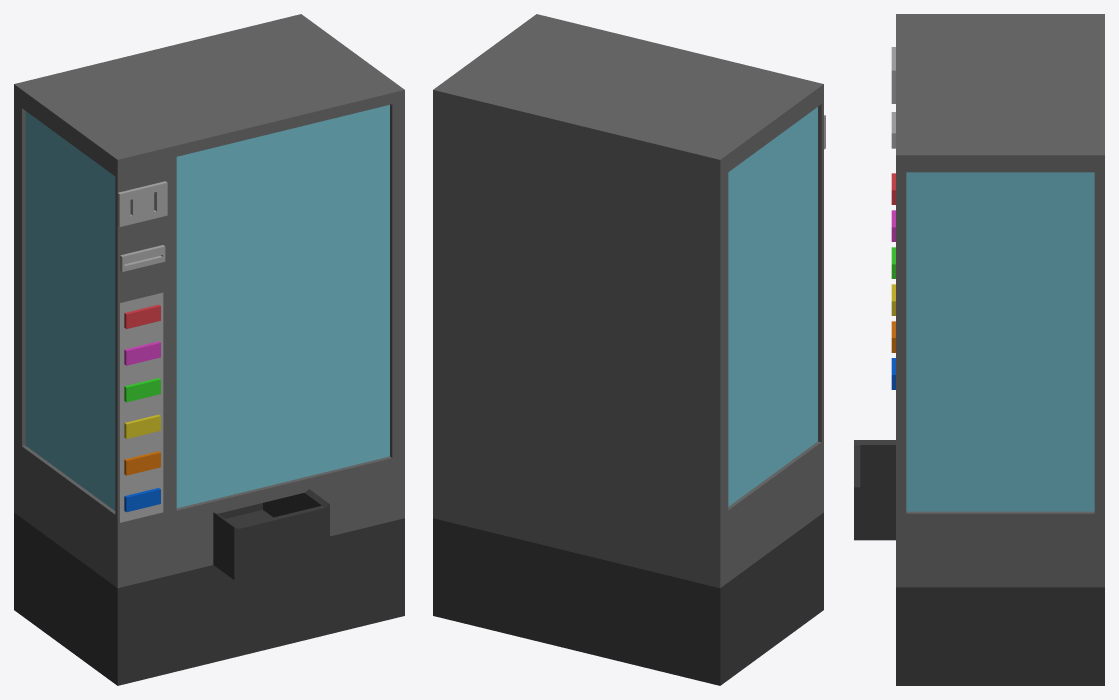
File: Soda Machine.fbx
3 renders of one model, left to right at view 1: azimuth 30°, elevation 25°; view 2: azimuth 150°, elevation 25°; view 3: azimuth 270°, elevation 25°, orthographic.
Parts seen in each view (by area): view 1: Soda Machine; view 2: Soda Machine; view 3: Soda Machine.
Part boxes in pixels (bbox=[...]): Soda Machine: bbox=[14, 14, 404, 685]; Soda Machine: bbox=[433, 14, 825, 685]; Soda Machine: bbox=[854, 14, 1104, 685].
Bounding box in the file's own units: 800 × 1400 × 600.
